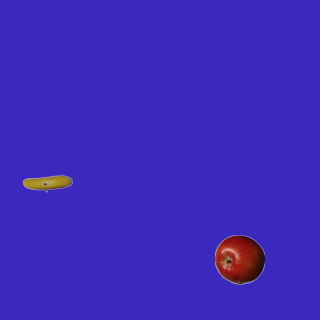Apple Braeburn: (214, 234, 264, 284)
Banana: (22, 158, 72, 208)
